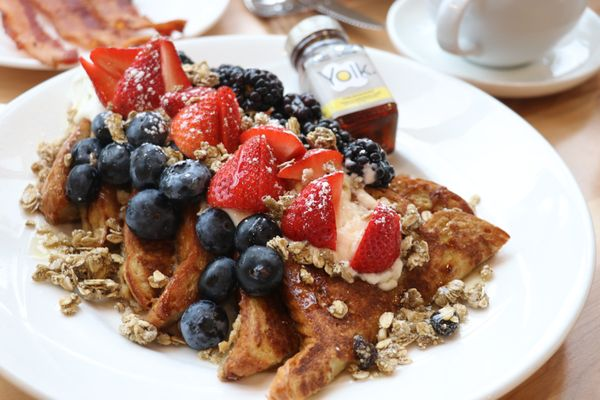pizza: (435, 0, 594, 73)
